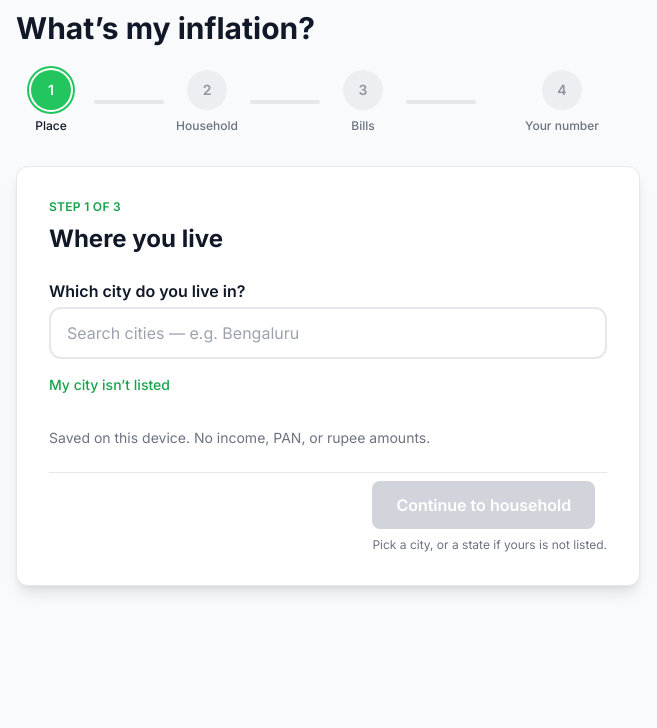
Test: personal inflation system integration › PI-04: unlisted city uses state/UT select
The width and height of the screenshot is (657, 728).
Click the button "My city isn’t listed" at (109, 385), box [49,375,170,395]
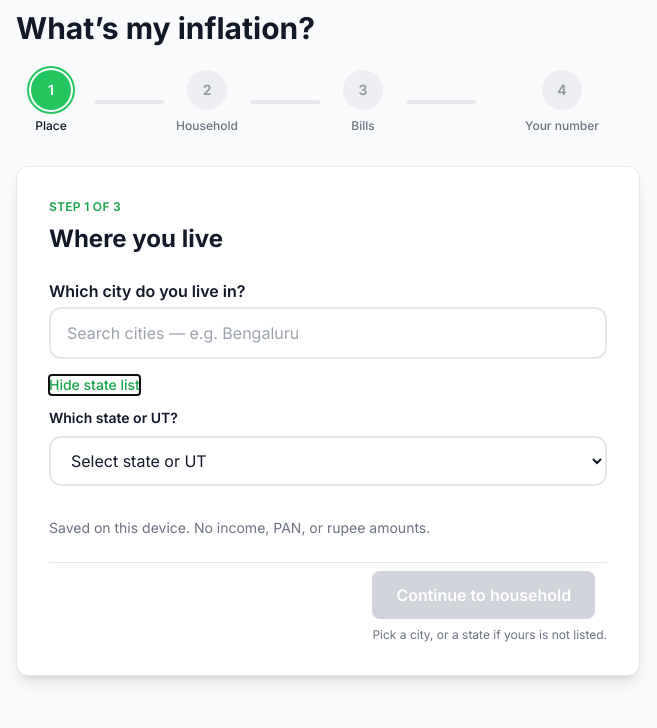
Select "Assam" in the dropdown labelled "Which state or UT?" at (328, 461), box [49,436,607,486]
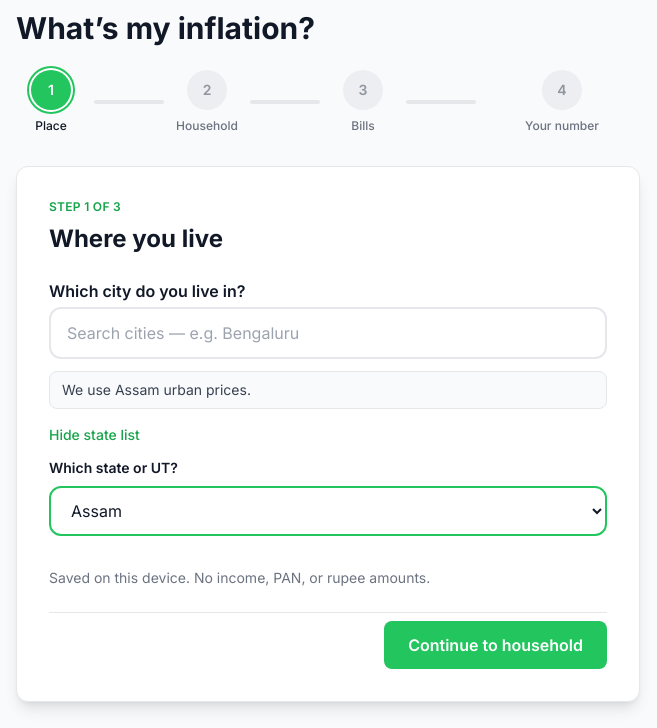
Expected: the text "We use Assam urban prices." is shown, [49,371,607,409]
